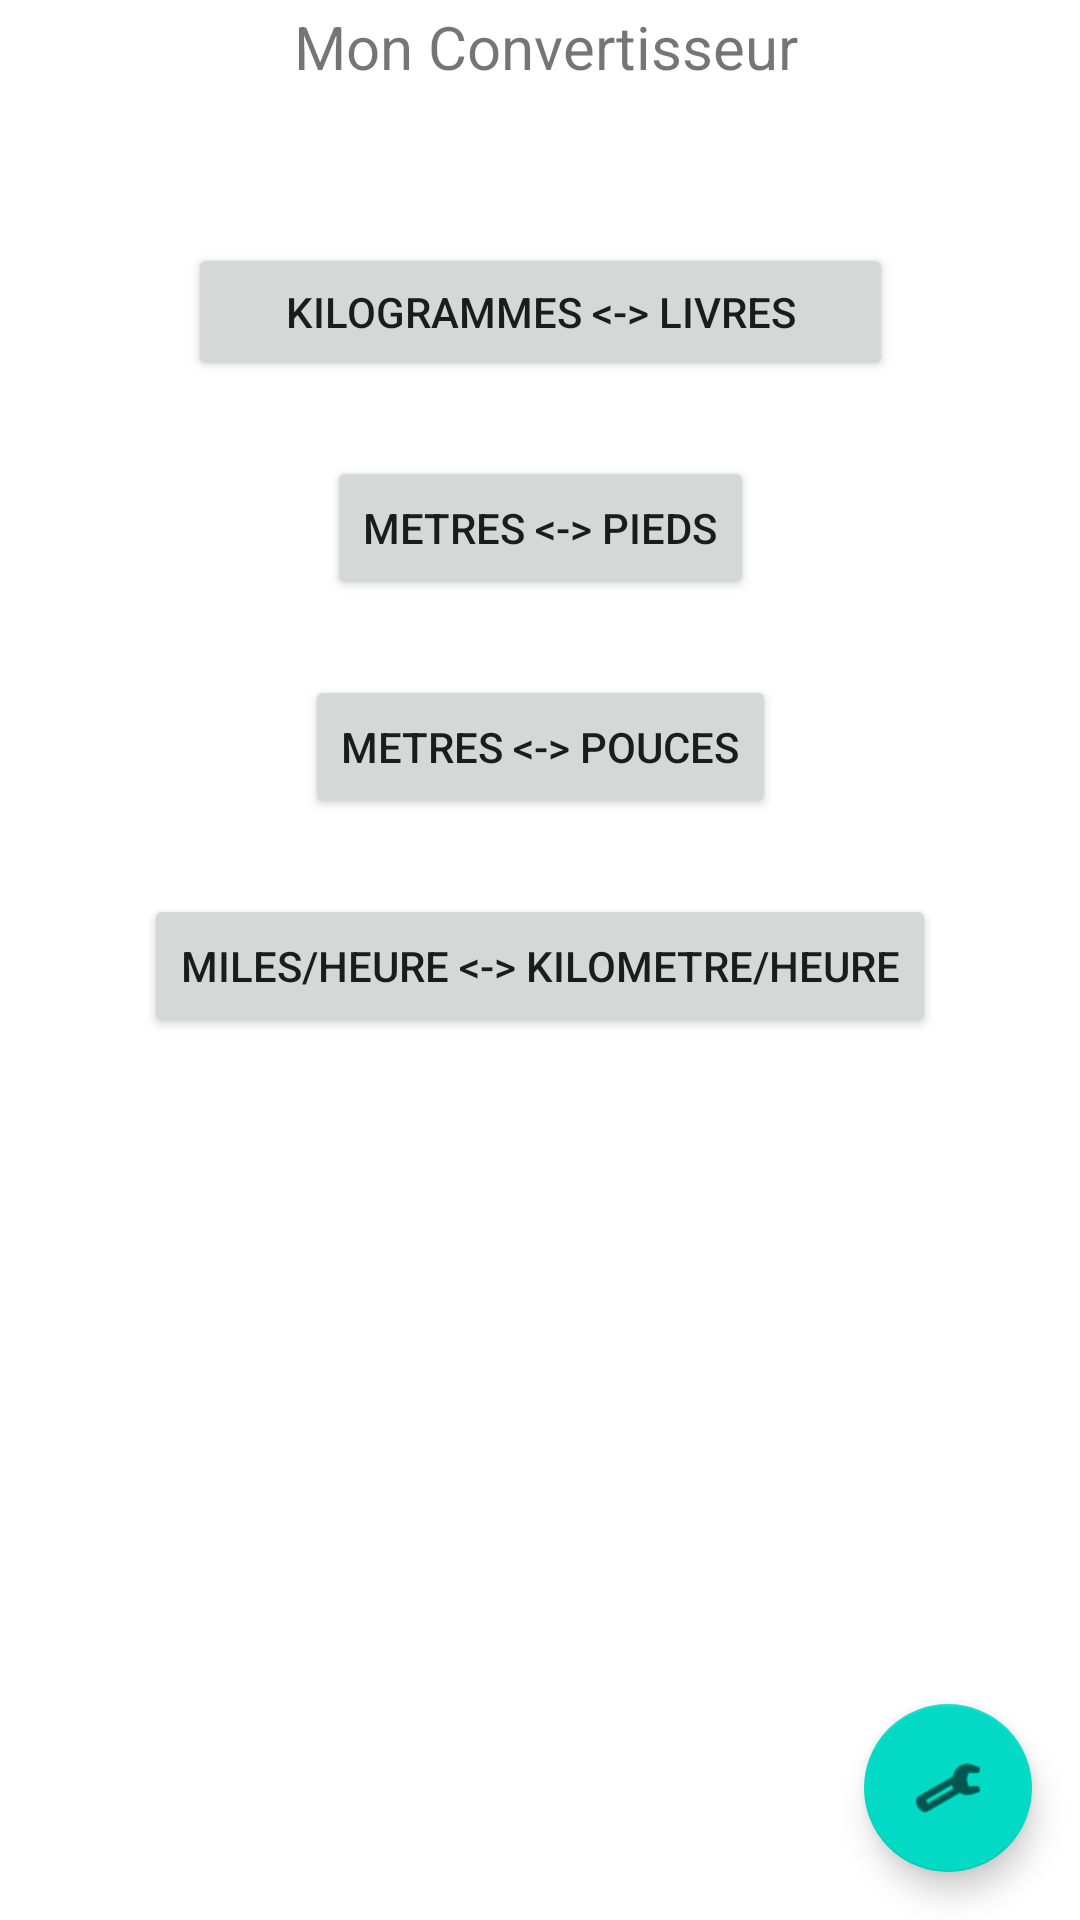

Point at icon controls on the screen. Image size 1080x1920, points as (x,y).
manage: (948,1788)
